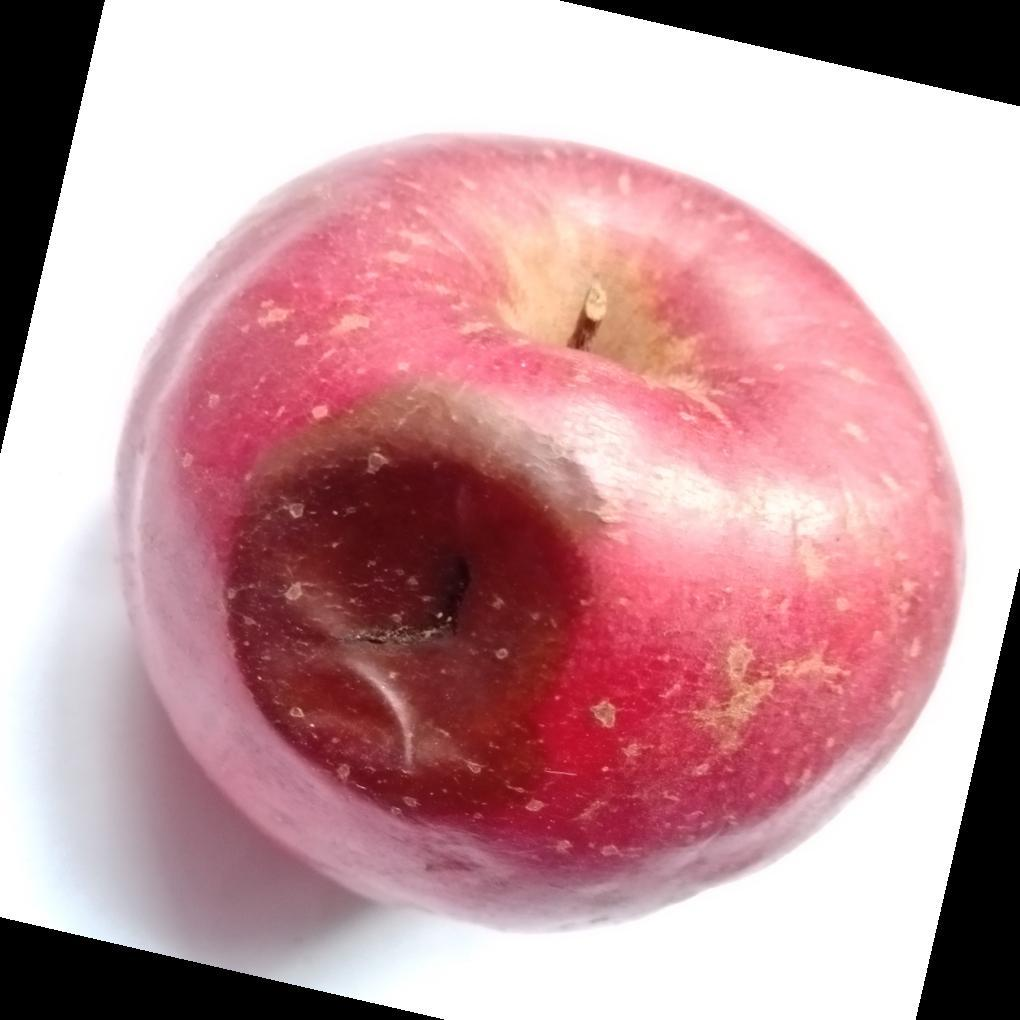FreshOrange: (99, 128, 967, 947)
